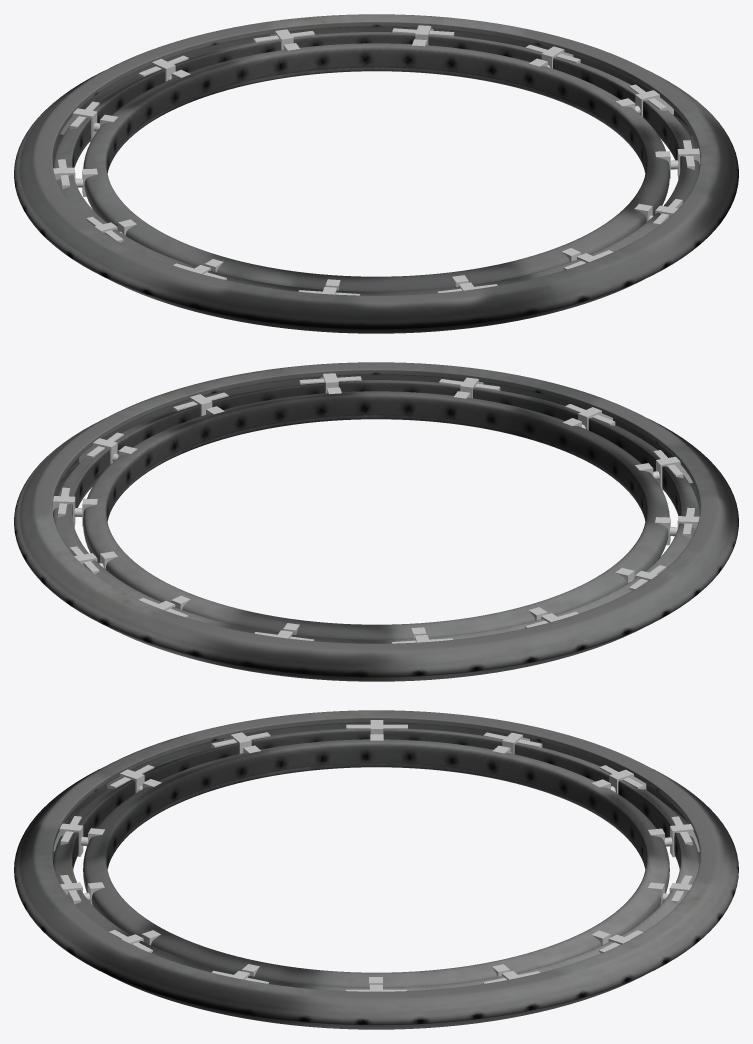
Rendered from portal(1).fbx.
The picture shows the model from 3 angles, top to bottom: view 1: azimuth 30°, elevation 25°; view 2: azimuth 150°, elevation 25°; view 3: azimuth 270°, elevation 25°; orthographic projection.
Visible parts, largest first — view 1: outer_portal.036, outer_portal.037, outer_portal.001, Cube, Cube.002, Cube.001; view 2: outer_portal.036, outer_portal.037, outer_portal.001, Cube, Cube.002, Cube.001; view 3: outer_portal.036, outer_portal.037, outer_portal.001, Cube, Cube.002, Cube.001.
Boxes of the visible parts, x1,y1,x2,y2 form: outer_portal.036: (14,14,738,333); outer_portal.037: (83,43,669,291); outer_portal.001: (53,32,699,295); Cube: (53,25,700,294); Cube.002: (58,28,694,295); Cube.001: (82,39,670,290); outer_portal.036: (14,362,738,681); outer_portal.037: (83,391,669,639); outer_portal.001: (53,380,699,643); Cube: (52,373,699,642); Cube.002: (58,376,694,643); Cube.001: (82,387,670,638); outer_portal.036: (14,710,738,1029); outer_portal.037: (83,739,669,987); outer_portal.001: (53,728,699,990); Cube: (53,720,699,991); Cube.002: (60,724,692,991); Cube.001: (87,734,664,987).
Bounding box in the file's own units: 2.04 × 0.097 × 2.04.
Materials: 6 (2 with a texture image).
